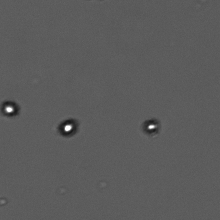Living Cell: (53, 115, 82, 140), (138, 115, 164, 140), (1, 97, 23, 121)
